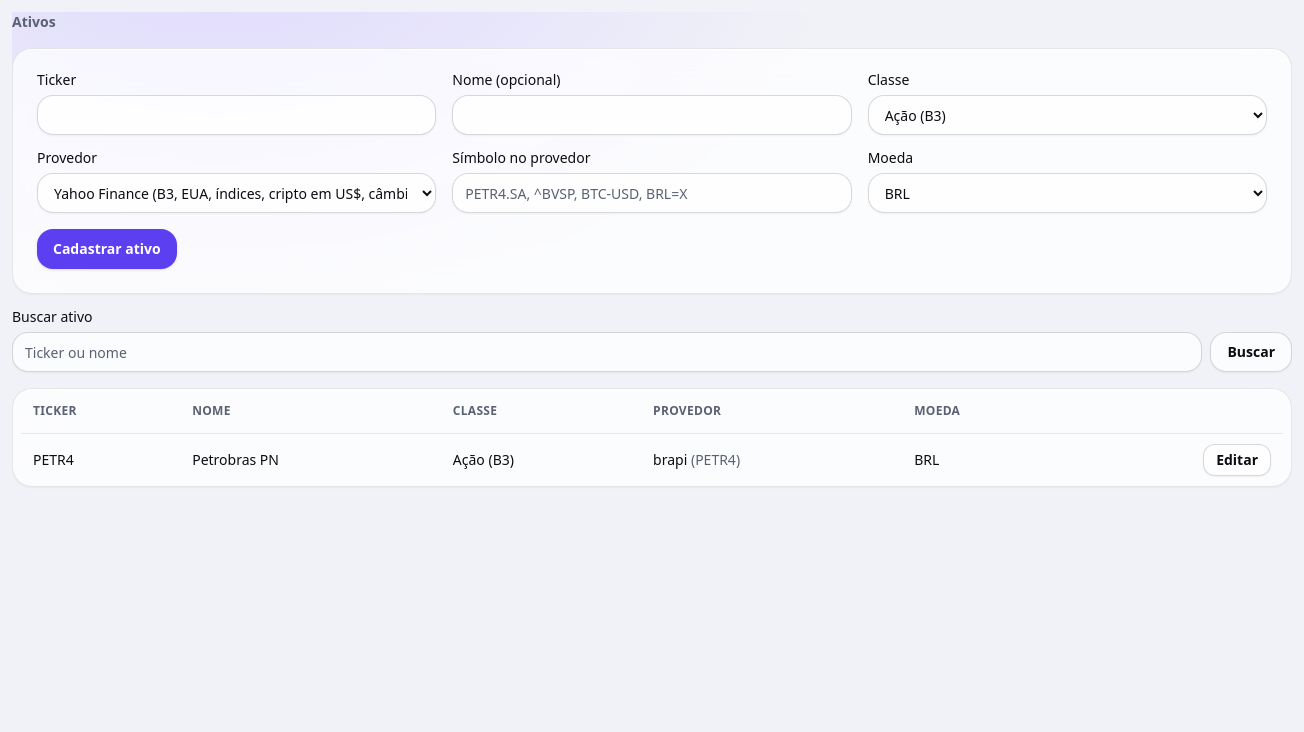
Test case: AssetCatalogue › offers Binance for crypto in reais, each provider with what it covers
Expected: the row with test id "market-asset-a-petr4" is shown, [21,433,1283,486]
Type "BTC" into the field labelled "Ticker".
click(237, 115); type("BTC")  # box [37,95,436,135]
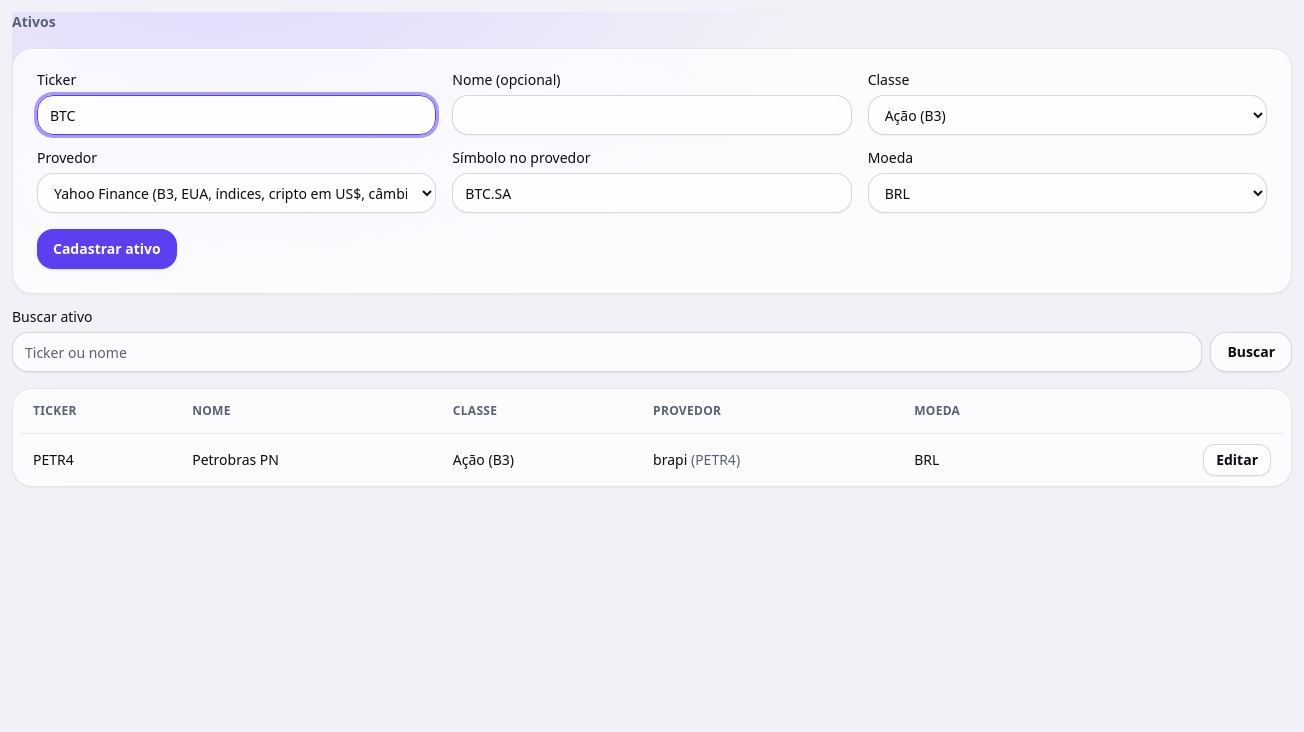
Select "Criptomoeda" in the dropdown labelled "Classe" at (1067, 115), box [868,95,1267,135]
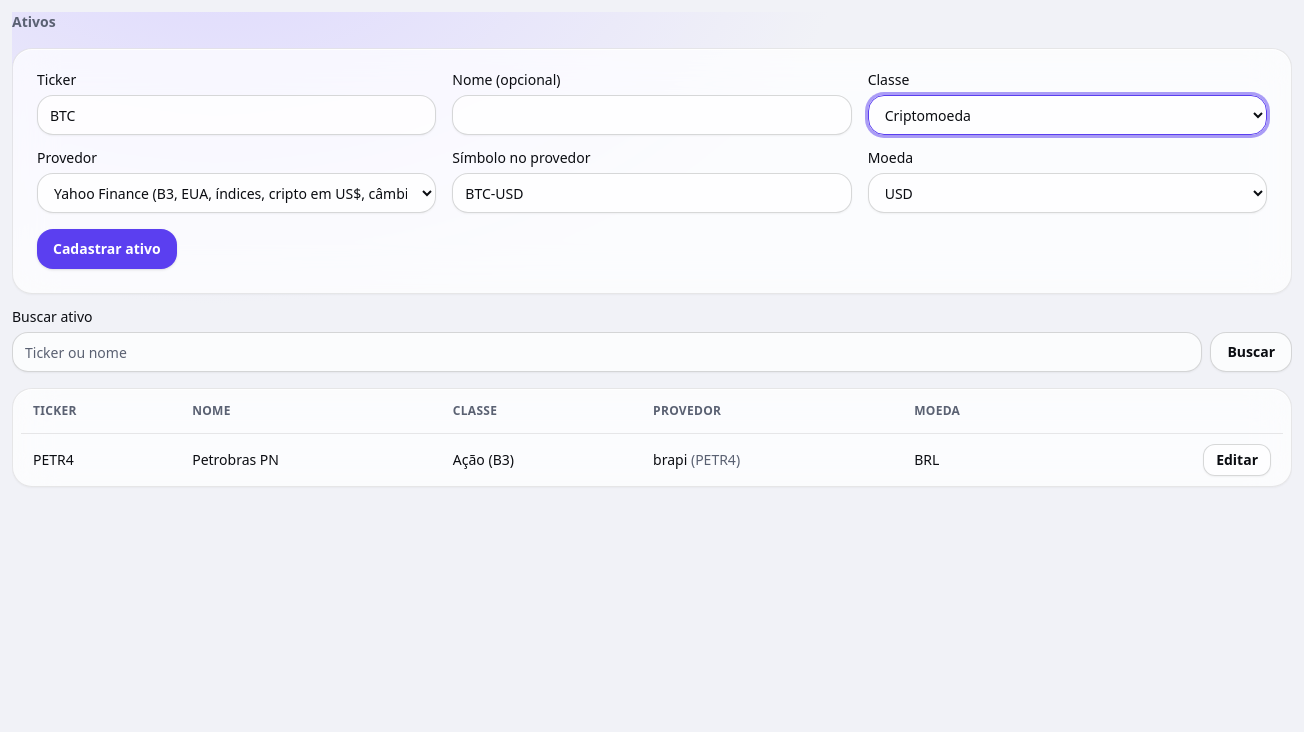
Select "Binance (cripto em reais)" in the dropdown labelled "Provedor" at (237, 193), box [37,173,436,213]
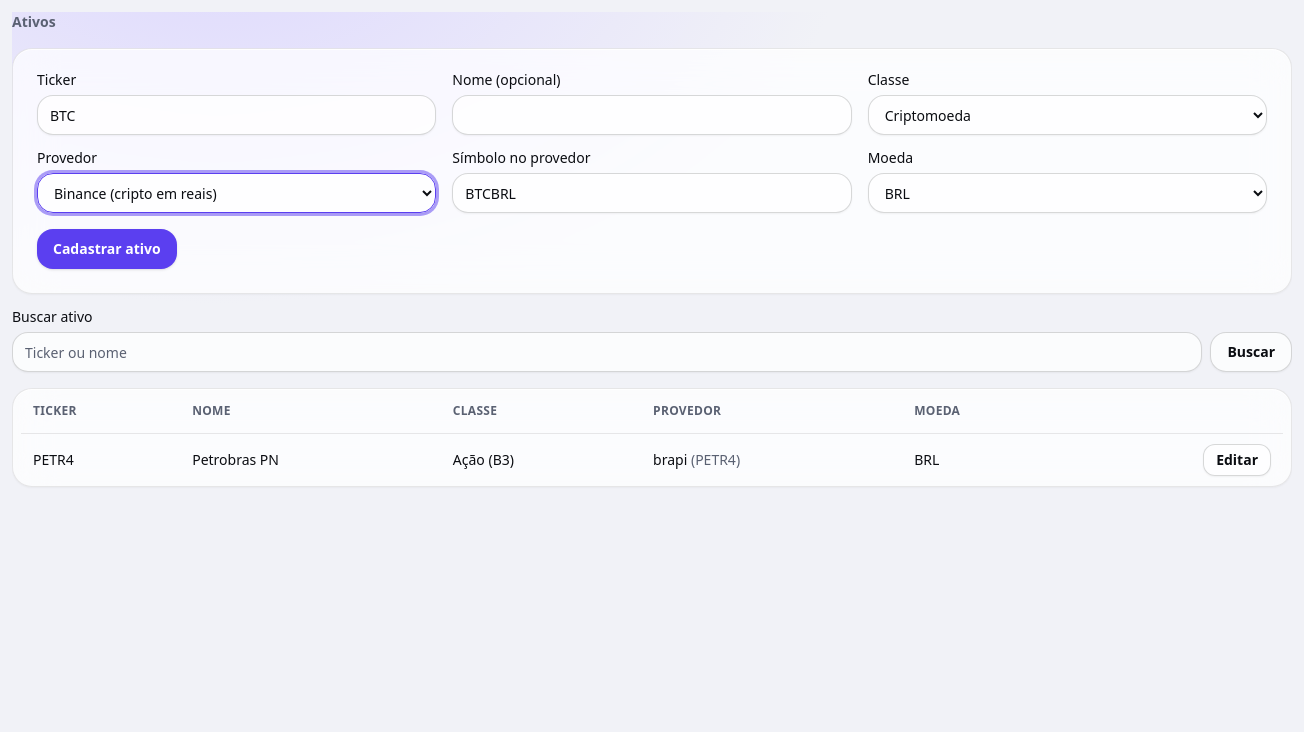
Replace the text in the field labelled "Símbolo no provedor" with "btcbrl" at (652, 193), box [452,173,852,213]
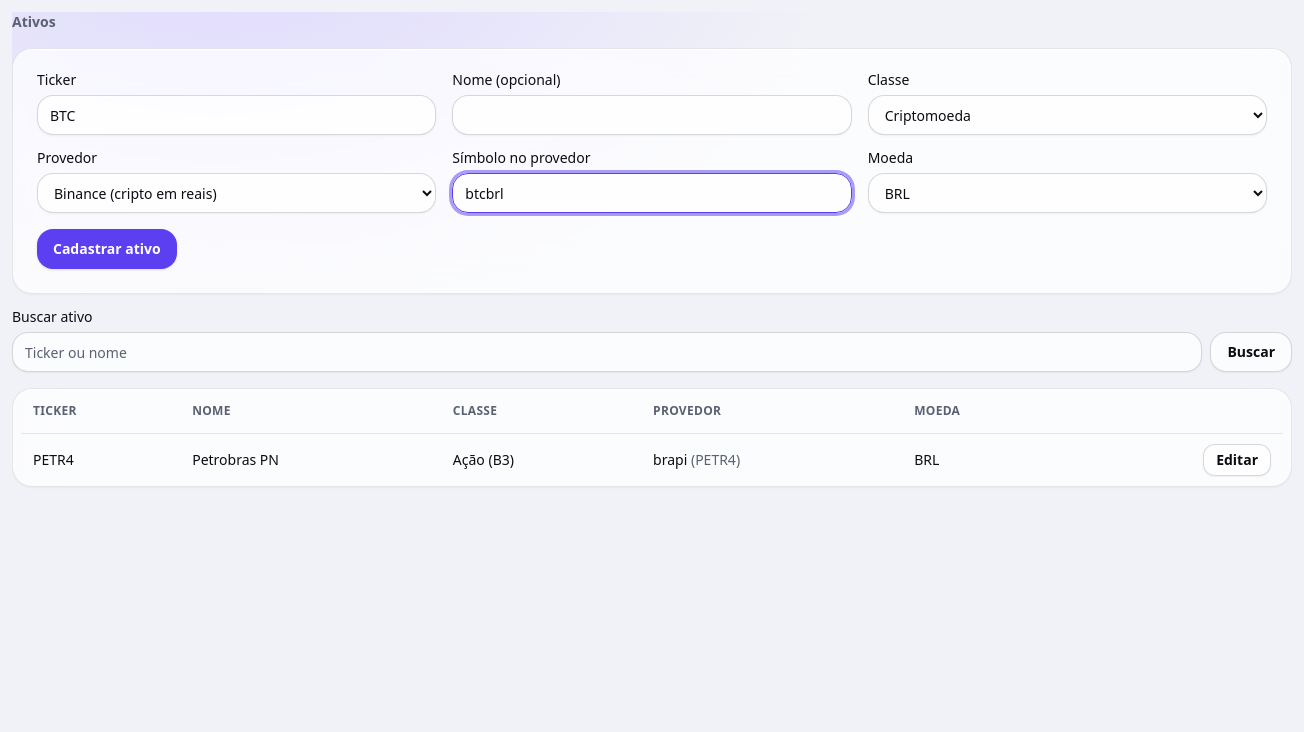
Select "BRL" in the dropdown labelled "Moeda" at (1067, 193), box [868,173,1267,213]
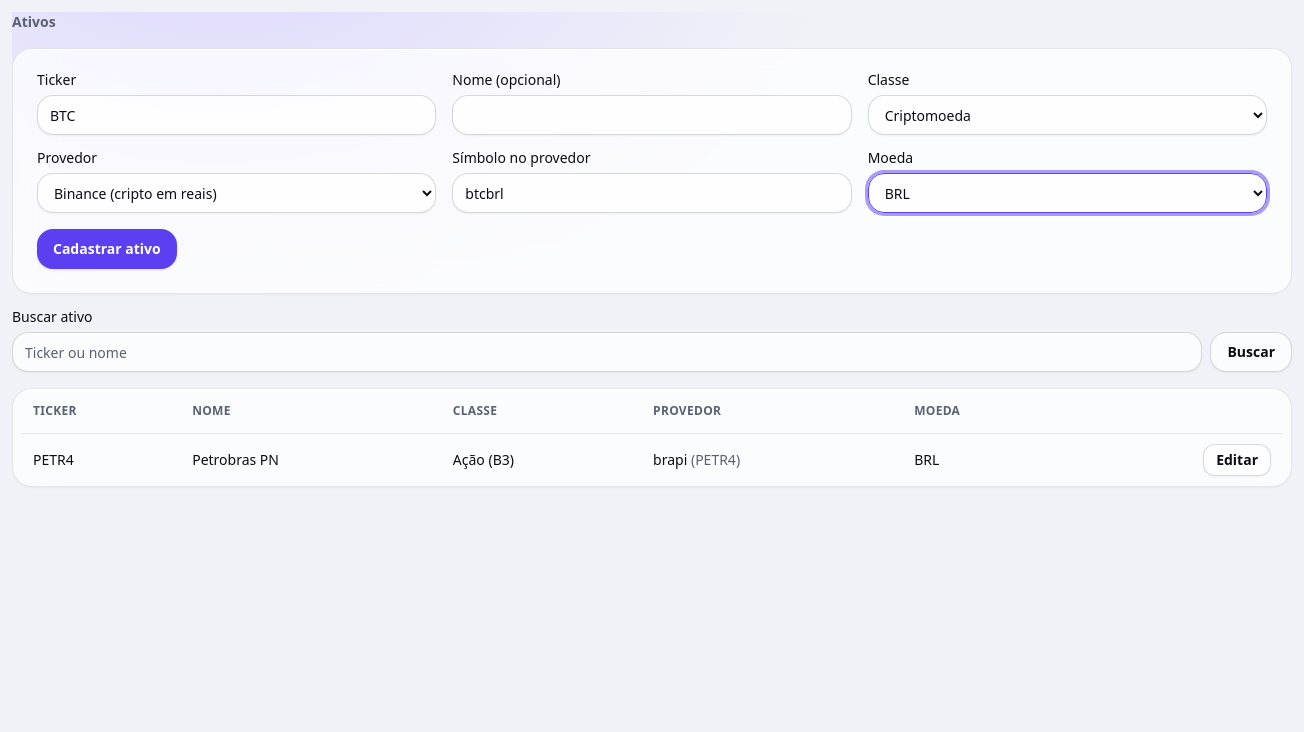
Click the button "Cadastrar ativo".
click(107, 249)  # box [37,229,177,269]
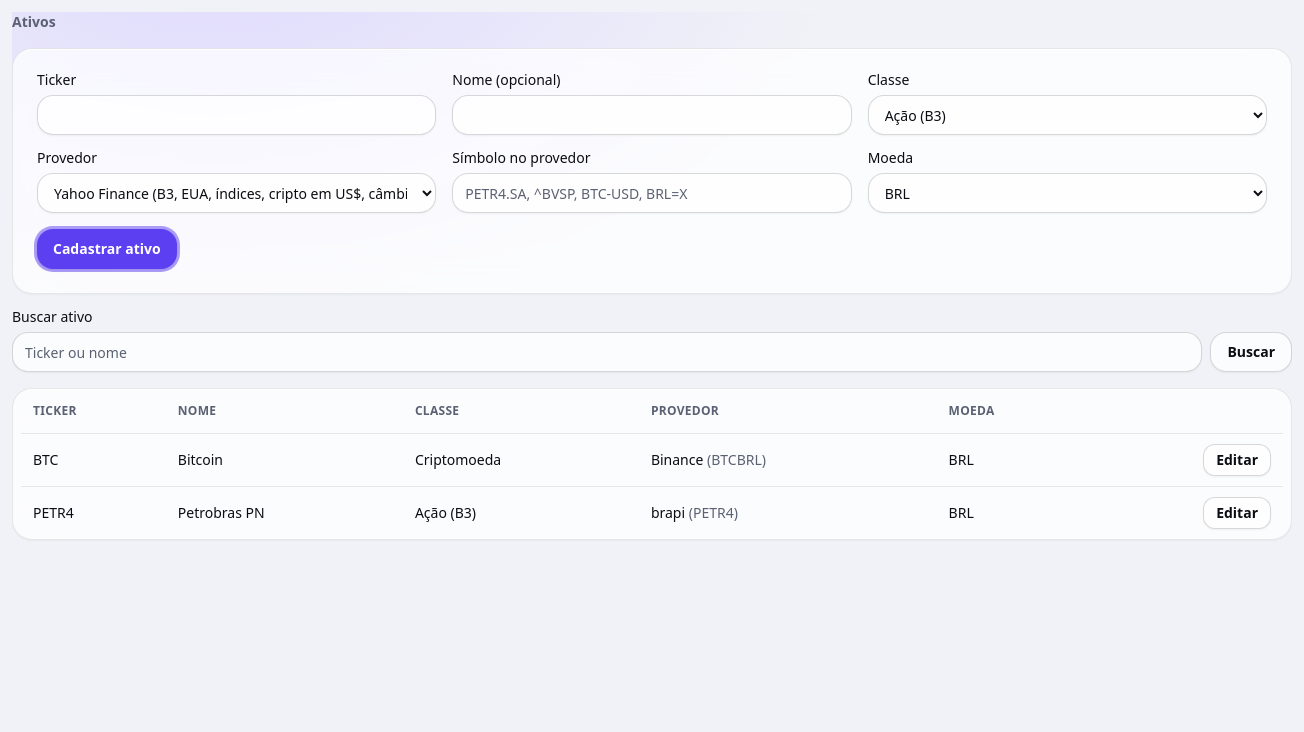
Expected: the row with test id "market-asset-a-btcbrl" shows "Binance (BTCBRL)", [21,433,1283,486]
